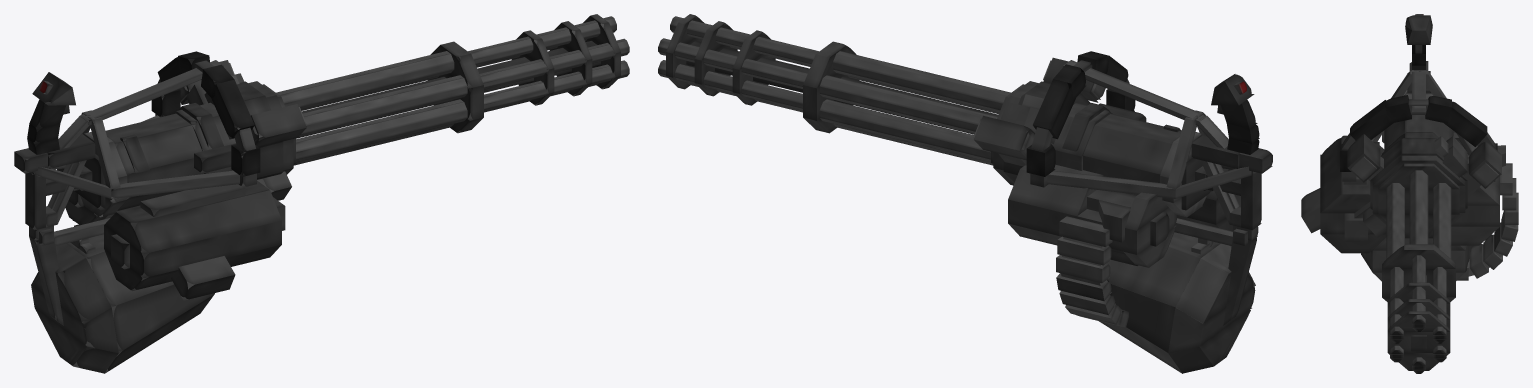
File: minigun.obj
3 renders of one model, left to right at view 1: azimuth 30°, elevation 25°; view 2: azimuth 150°, elevation 25°; view 3: azimuth 270°, elevation 25°, orthographic. The views are drawn at different scales.
Parts seen in each view (by area): view 1: gunModel18, gunModel19, gunModel4, ammoModel13, ammoModel17, minigunBarrelModel32, minigunBarrelModel43, minigunBarrelModel47, ammoModel16, gunModel23, gunModel72, ammoModel18 (+51 smaller); view 2: gunModel4, ammoModel14, ammoModel17, gunModel52, minigunBarrelModel32, ammoModel13, gunModel50, minigunBarrelModel37, minigunBarrelModel40, ammoModel16, gunModel71, ammoModel18 (+53 smaller); view 3: gunModel18, minigunBarrelModel32, minigunBarrelModel47, minigunBarrelModel37, minigunBarrelModel0, gunModel4, gunModel16, gunModel10, gunModel37, gunModel36, gunModel13, gunModel30 (+45 smaller).
Part boxes in pixels (x1,y1,x2,y2): gunModel18: [104, 180, 281, 253]; gunModel19: [104, 220, 281, 277]; gunModel4: [105, 113, 203, 174]; ammoModel13: [87, 258, 214, 352]; ammoModel17: [31, 243, 111, 324]; minigunBarrelModel32: [276, 51, 453, 103]; minigunBarrelModel43: [296, 99, 467, 152]; minigunBarrelModel47: [303, 75, 468, 125]; ammoModel16: [31, 273, 118, 353]; gunModel23: [171, 256, 235, 300]; gunModel72: [110, 170, 243, 198]; ammoModel18: [35, 308, 118, 373]; gunModel4: [1083, 113, 1181, 174]; ammoModel14: [1107, 232, 1220, 306]; ammoModel17: [1175, 243, 1255, 323]; gunModel52: [1008, 199, 1176, 254]; minigunBarrelModel32: [833, 51, 1010, 103]; ammoModel13: [1111, 284, 1175, 352]; gunModel50: [1008, 164, 1103, 215]; minigunBarrelModel37: [819, 75, 997, 124]; minigunBarrelModel40: [819, 99, 990, 152]; ammoModel16: [1168, 274, 1255, 353]; gunModel71: [1047, 170, 1175, 198]; ammoModel18: [1168, 310, 1250, 373]; gunModel18: [1320, 135, 1384, 213]; minigunBarrelModel32: [1409, 170, 1428, 244]; minigunBarrelModel47: [1386, 183, 1404, 258]; minigunBarrelModel37: [1433, 183, 1451, 258]; minigunBarrelModel0: [1382, 244, 1455, 268]; gunModel4: [1384, 115, 1453, 150]; gunModel16: [1378, 163, 1459, 189]; gunModel10: [1370, 138, 1467, 180]; gunModel37: [1443, 101, 1487, 146]; gunModel36: [1350, 100, 1395, 140]; gunModel13: [1372, 155, 1465, 185]; gunModel30: [1363, 146, 1467, 237].
Size of the model in its own units: 25.78 by 12.3 by 9.37.
